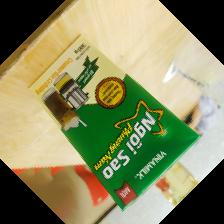NSPN_Hop: (26, 34, 204, 213)
